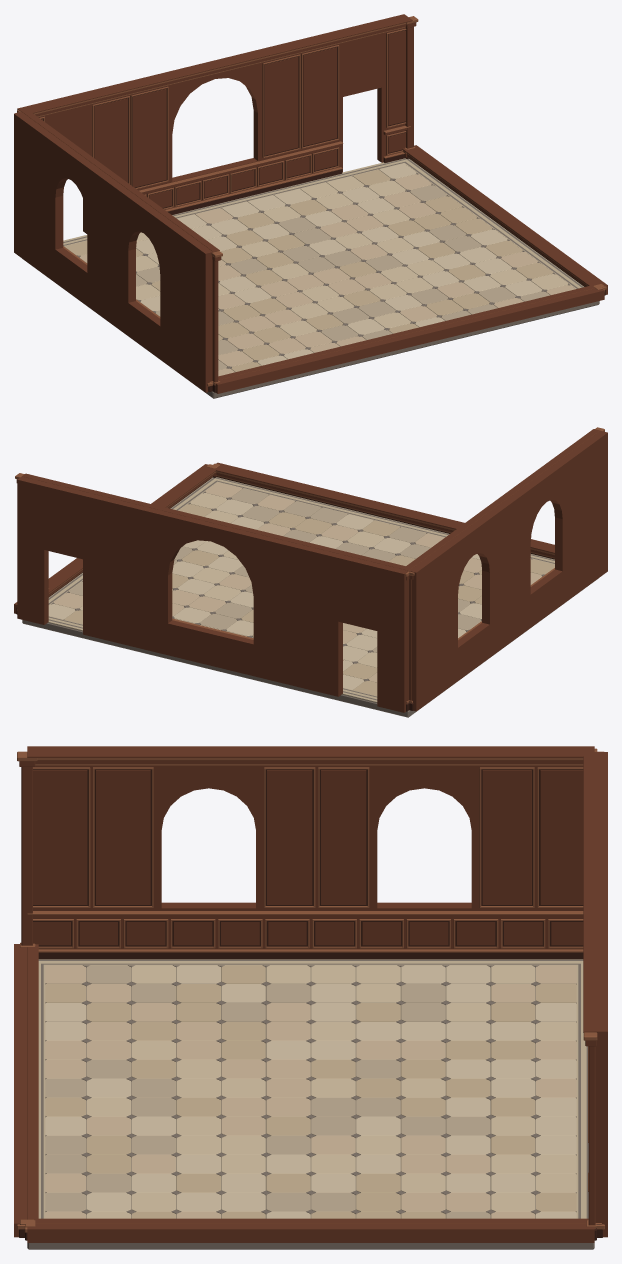
Rendered from main_dining_architecture.glb.
The picture shows the model from 3 angles, top to bottom: view 1: azimuth 30°, elevation 25°; view 2: azimuth 150°, elevation 25°; view 3: azimuth 270°, elevation 25°; orthographic projection. The views are drawn at different scales.
Visible parts, largest first — view 1: main_dining_Floor, main_dining_left_Wall_Solid_00, main_dining_rear_Wall_Solid_00, main_dining_front_Cutedge_Solid_00, main_dining_rear_Wall_UpperPanel_00_2_0_Field, main_dining_rear_Wall_UpperPanel_00_2_1_Field, main_dining_rear_Wall_UpperPanel_00_1_1_Field, main_dining_rear_Wall_UpperPanel_00_1_0_Field, main_dining_rear_Wall_Cornice_00_3_0, main_dining_Floor_Foundation, main_dining_Floor_Diamond_inlays, main_dining_front_Cutedge_Cornice_00_3_0 (+13 smaller); view 2: main_dining_rear_Wall_Solid_00, main_dining_left_Wall_Solid_00, main_dining_Floor, main_dining_Floor_Foundation, main_dining_rear_Wall_Cornice_00_3_0, main_dining_front_Cutedge_Cornice_00_3_0, main_dining_left_Wall_Cornice_00_3_0, main_dining_front_Cutedge_Solid_00, main_dining_front_Cutedge_Cornice_00_1_0, main_dining_right_Cutedge_Solid_00, main_dining_right_Cutedge_Cornice_00_3_0, main_dining_Floor_Diamond_inlays (+3 smaller); view 3: main_dining_Floor, main_dining_left_Wall_Solid_00, main_dining_right_Cutedge_Solid_00, main_dining_left_Wall_UpperPanel_00_0_1_Field, main_dining_left_Wall_UpperPanel_00_0_0_Field, main_dining_left_Wall_UpperPanel_00_2_0_Field, main_dining_left_Wall_UpperPanel_00_1_0_Field, main_dining_left_Wall_UpperPanel_00_1_1_Field, main_dining_rear_Wall_Solid_00, main_dining_left_Wall_UpperPanel_00_2_1_Field, main_dining_Floor_Diamond_inlays, main_dining_left_Wall_Skirting_00_0 (+30 smaller).
Part boxes in pixels (x1,y1,x2,y2): main_dining_Floor: (63,158,583,376); main_dining_left_Wall_Solid_00: (14,112,212,392); main_dining_rear_Wall_Solid_00: (17,14,407,233); main_dining_front_Cutedge_Solid_00: (215,288,604,393); main_dining_rear_Wall_UpperPanel_00_2_0_Field: (264,57,298,155); main_dining_rear_Wall_UpperPanel_00_2_1_Field: (303,47,336,146); main_dining_rear_Wall_UpperPanel_00_1_1_Field: (133,89,166,187); main_dining_rear_Wall_UpperPanel_00_1_0_Field: (94,98,127,182); main_dining_rear_Wall_Cornice_00_3_0: (29,17,412,113); main_dining_Floor_Foundation: (24,260,599,398); main_dining_Floor_Diamond_inlays: (76,169,570,368); main_dining_front_Cutedge_Cornice_00_3_0: (218,284,596,380); main_dining_rear_Wall_Solid_00: (17,476,408,712); main_dining_left_Wall_Solid_00: (409,430,607,711); main_dining_Floor: (48,477,554,702); main_dining_Floor_Foundation: (22,578,598,717); main_dining_rear_Wall_Cornice_00_3_0: (22,473,409,570); main_dining_front_Cutedge_Cornice_00_3_0: (210,467,554,553); main_dining_left_Wall_Cornice_00_3_0: (403,429,599,570); main_dining_front_Cutedge_Solid_00: (216,462,554,548); main_dining_front_Cutedge_Cornice_00_1_0: (216,472,554,557); main_dining_right_Cutedge_Solid_00: (14,464,209,613); main_dining_right_Cutedge_Cornice_00_3_0: (48,468,215,593); main_dining_Floor_Diamond_inlays: (51,488,544,681); main_dining_Floor: (38,959,588,1218); main_dining_left_Wall_Solid_00: (27,746,594,949); main_dining_right_Cutedge_Solid_00: (27,1223,594,1242); main_dining_left_Wall_UpperPanel_00_0_1_Field: (95,770,150,904); main_dining_left_Wall_UpperPanel_00_0_0_Field: (33,770,87,904); main_dining_left_Wall_UpperPanel_00_2_0_Field: (482,770,531,904); main_dining_left_Wall_UpperPanel_00_1_0_Field: (267,770,312,904); main_dining_left_Wall_UpperPanel_00_1_1_Field: (321,770,366,904); main_dining_rear_Wall_Solid_00: (595,752,607,1237); main_dining_left_Wall_UpperPanel_00_2_1_Field: (540,770,583,904); main_dining_Floor_Diamond_inlays: (45,965,576,1214); main_dining_left_Wall_Skirting_00_0: (38,952,583,959).
Size of the model in its own units: 14.56 by 5.11 by 12.56.
